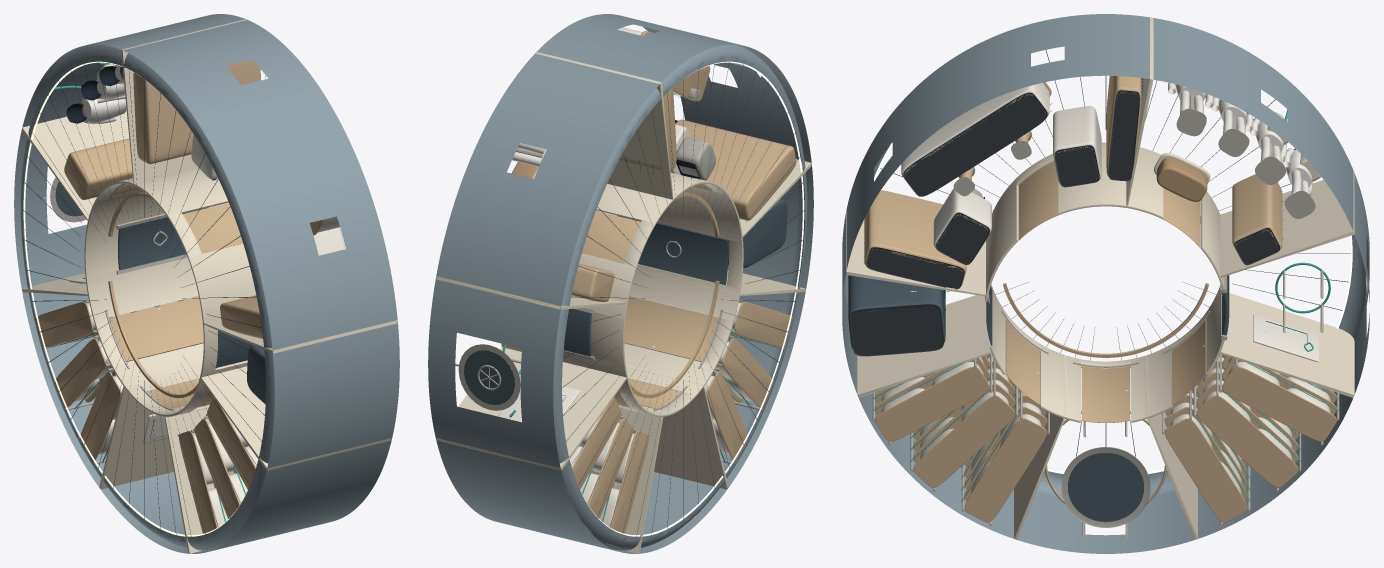
Rendered from interior_L5.glb.
3 renders of one model, left to right at view 1: azimuth 30°, elevation 25°; view 2: azimuth 150°, elevation 25°; view 3: azimuth 270°, elevation 25°, orthographic.
Parts seen in each view (by area): view 1: dry:L5_D3_lining, dry:L5_P0_room_L5-workshop, dry:L5_P0_room_L5-stores2, dry:L5_P0_room_L5-vestibule, dry:L5_W4_W5_parts_walls, dry:L5_P0_room_L5-suits, dry:L5_A0_inner_pressure_hatch, dry:L5_P0_room_L5-custody, dry:L5_P0_room_L5-airlock, dry:L5_P0_room_L5-stores, dry:L5_U2_IVA_lockers, dry:L5_S2_stores_racks_oak_2 (+16 smaller); view 2: dry:L5_D3_lining, dry:L5_P0_room_L5-suits, dry:L5_P0_room_L5-stores, dry:L5_P0_room_L5-vestibule, dry:L5_W4_W5_parts_walls, dry:L5_P0_room_L5-airlock, dry:L5_V2_vault_door, dry:L5_P0_room_L5-workshop, dry:L5_A4_EVA_hatch, dry:L5_P0_room_L5-stores2, dry:L5_A0_inner_pressure_hatch, dry:L5_P0_room_L5-custody (+15 smaller); view 3: dry:L5_D3_lining, dry:L5_W4_W5_parts_walls, dry:L5_P0_room_L5-workshop, dry:L5_P0_room_L5-suits, dry:L5_W1_workbench, dry:L5_V1_custody_vault, dry:L5_P0_room_L5-airlock, dry:L5_P0_room_L5-stores2, dry:L5_P0_room_L5-stores, dry:L5_P0_room_L5-custody, dry:L5_T1_tunnel_floor_hatch, dry:L5_P0_room_L5-vestibule (+27 smaller).
Boxes of the visible parts, box(x1,y1,x2,y2) form: dry:L5_D3_lining: box(14, 14, 399, 553); dry:L5_P0_room_L5-workshop: box(121, 19, 390, 353); dry:L5_P0_room_L5-stores2: box(29, 270, 203, 488); dry:L5_P0_room_L5-vestibule: box(101, 360, 247, 553); dry:L5_W4_W5_parts_walls: box(133, 59, 265, 338); dry:L5_P0_room_L5-suits: box(22, 23, 228, 221); dry:L5_A0_inner_pressure_hatch: box(84, 207, 208, 279); dry:L5_P0_room_L5-custody: box(200, 320, 397, 470); dry:L5_P0_room_L5-airlock: box(22, 142, 191, 295); dry:L5_P0_room_L5-stores: box(164, 377, 391, 553); dry:L5_U2_IVA_lockers: box(64, 138, 132, 199); dry:L5_S2_stores_racks_oak_2: box(55, 338, 197, 408); dry:L5_D3_lining: box(428, 14, 813, 553); dry:L5_P0_room_L5-suits: box(436, 55, 673, 309); dry:L5_P0_room_L5-stores: box(624, 270, 805, 470); dry:L5_P0_room_L5-vestibule: box(626, 366, 728, 522); dry:L5_W4_W5_parts_walls: box(619, 88, 796, 220); dry:L5_P0_room_L5-airlock: box(436, 280, 627, 469); dry:L5_V2_vault_door: box(617, 215, 743, 289); dry:L5_P0_room_L5-workshop: box(536, 52, 811, 237); dry:L5_A4_EVA_hatch: box(458, 344, 520, 410); dry:L5_P0_room_L5-stores2: box(442, 377, 663, 553); dry:L5_A0_inner_pressure_hatch: box(563, 307, 625, 364); dry:L5_P0_room_L5-custody: box(615, 163, 811, 295); dry:L5_D3_lining: box(842, 14, 1369, 553); dry:L5_W4_W5_parts_walls: box(864, 76, 1143, 289); dry:L5_P0_room_L5-workshop: box(846, 19, 1153, 295); dry:L5_P0_room_L5-suits: box(1127, 17, 1354, 277); dry:L5_W1_workbench: box(901, 82, 1051, 196); dry:L5_V1_custody_vault: box(848, 275, 945, 356); dry:L5_P0_room_L5-airlock: box(1218, 171, 1354, 396); dry:L5_P0_room_L5-stores2: box(1145, 291, 1353, 538); dry:L5_P0_room_L5-stores: box(858, 292, 1066, 539); dry:L5_P0_room_L5-custody: box(846, 240, 993, 397); dry:L5_T1_tunnel_floor_hatch: box(1061, 447, 1150, 527); dry:L5_P0_room_L5-vestibule: box(1016, 355, 1197, 539).
Bounding box in the file's own units: 2.3 × 8.3 × 8.3.
